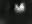person: (20, 3, 26, 16), (16, 5, 21, 15)
